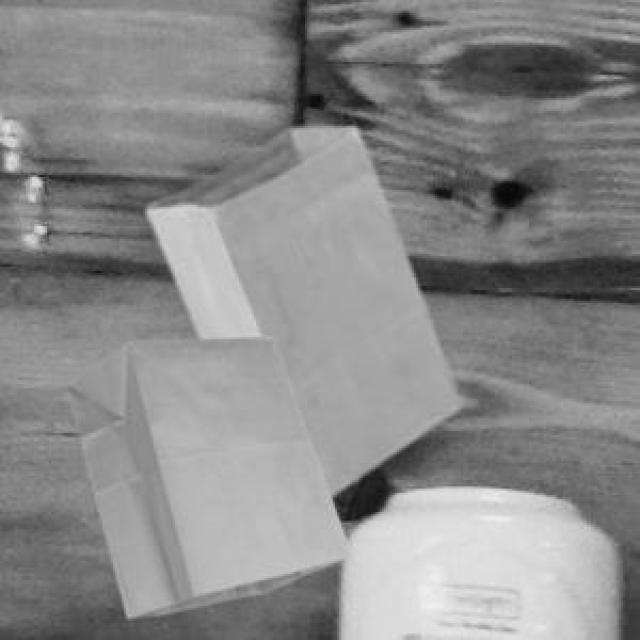miscellaneous trash: (326, 474, 354, 514)
paper: (143, 124, 454, 491), (64, 333, 348, 614)
